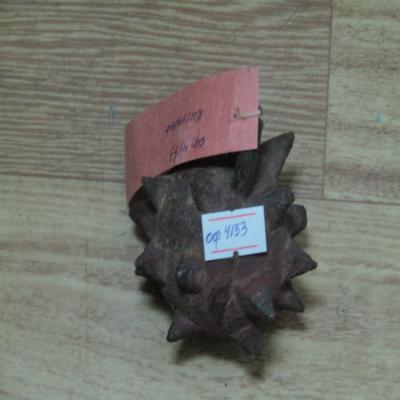weapon: (128, 133, 317, 361)
